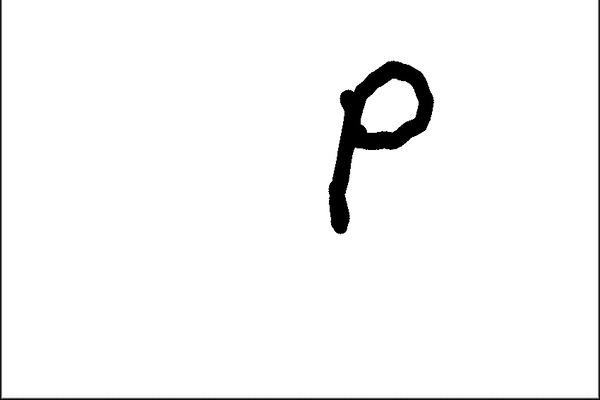P: (316, 45, 440, 246)
